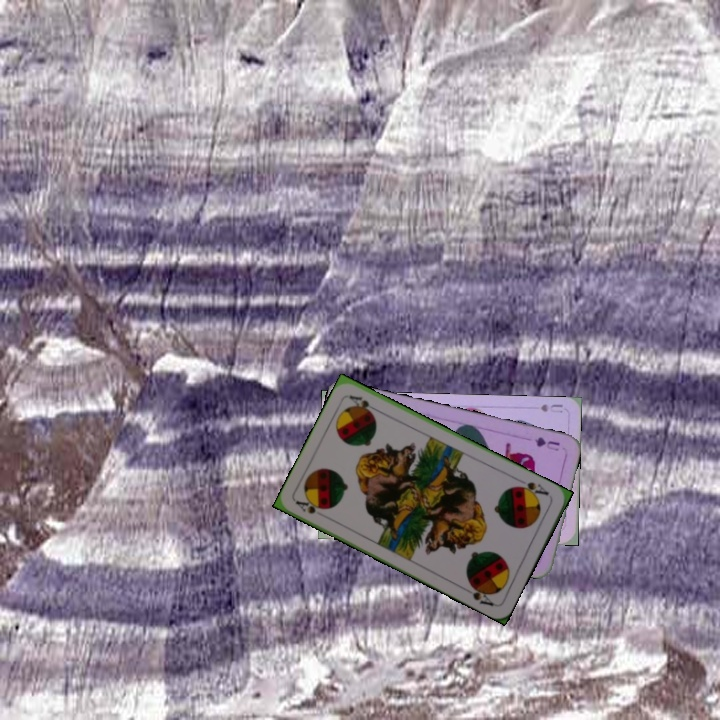GU: (530, 433, 562, 454)
SA: (512, 478, 551, 501), (292, 496, 329, 516)
SU: (536, 400, 565, 415)
